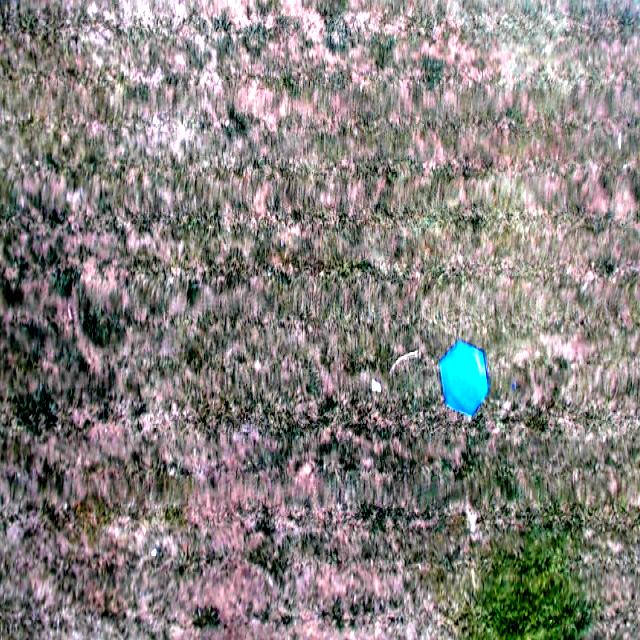blue_hexagon: (440, 342, 489, 418)
